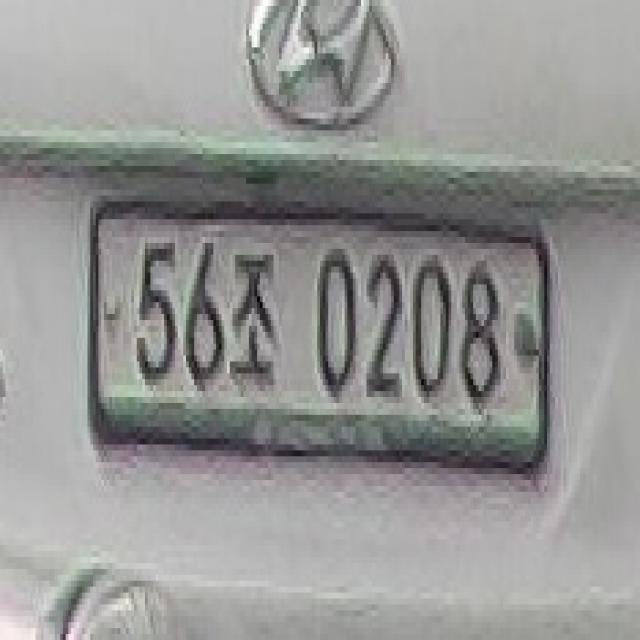0: (310, 232, 358, 396), (410, 234, 454, 400)
2: (362, 234, 404, 400)
5: (134, 232, 176, 388)
6: (183, 234, 225, 386)
8: (461, 239, 503, 405)
jo: (230, 234, 276, 384)
license_plate: (83, 187, 559, 486)
